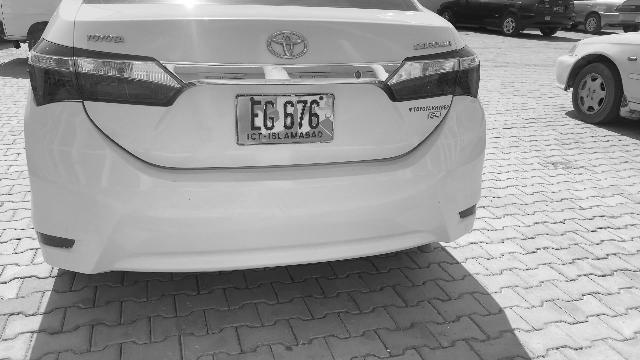Number: (245, 100, 328, 134)
